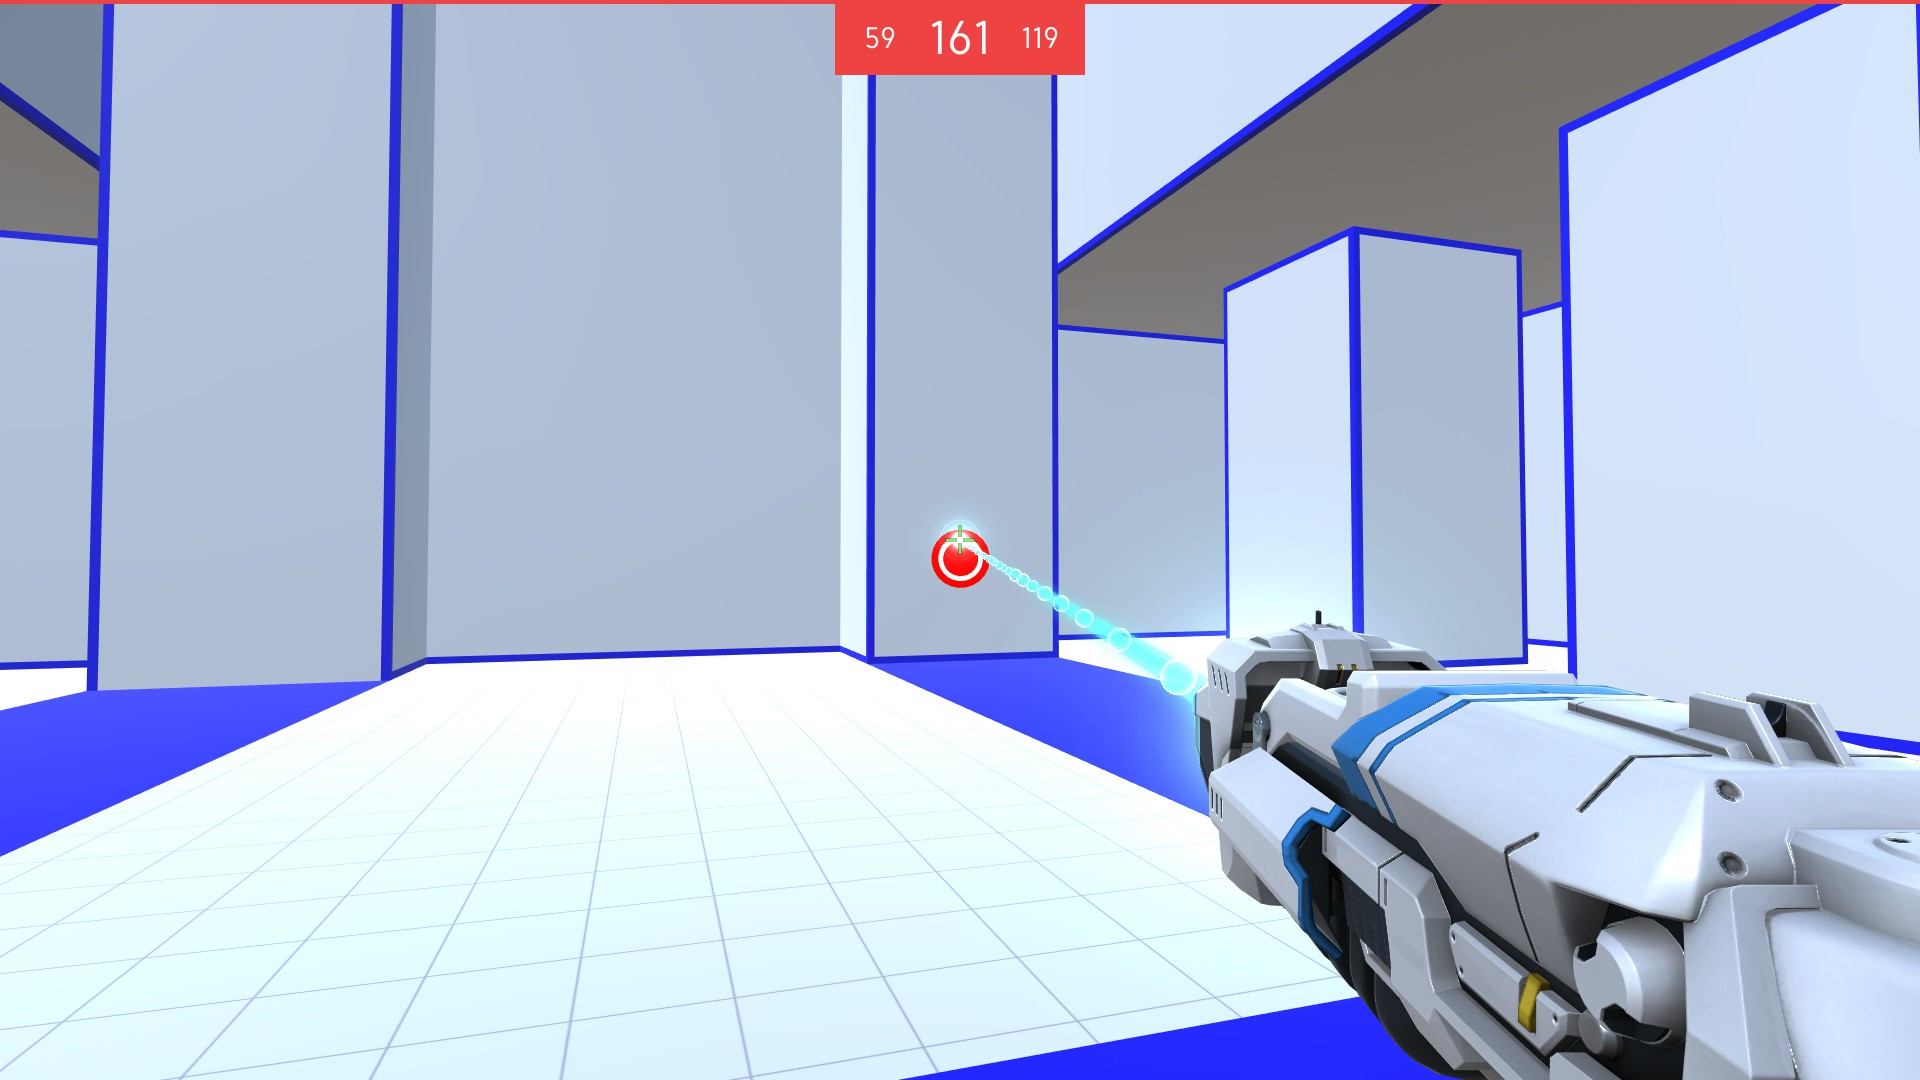target: (928, 527, 996, 588)
